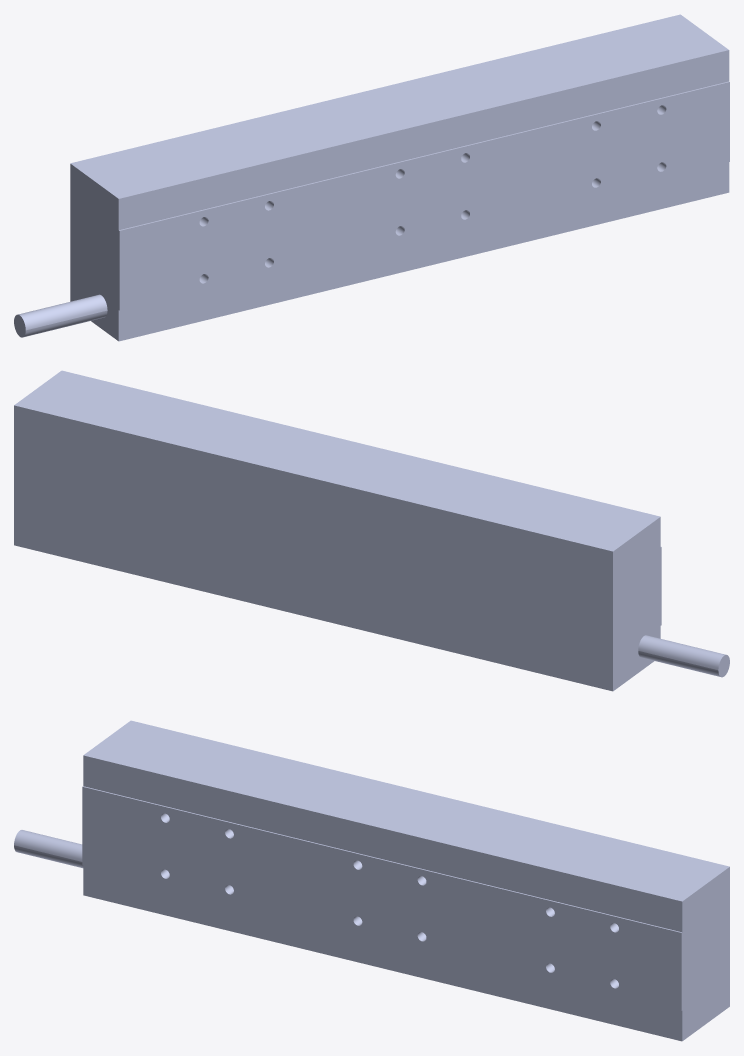
Rendered from MTA-12.glb.
3 renders of one model, top to bottom at view 1: azimuth 30°, elevation 25°; view 2: azimuth 150°, elevation 25°; view 3: azimuth 330°, elevation 25°, orthographic.
Parts seen in each view (by area): view 1: MTA-12_node_1; view 2: MTA-12_node_1; view 3: MTA-12_node_1.
Boxes of the visible parts, box(x1,y1,x2,y2) form: MTA-12_node_1: box(14, 14, 729, 341); MTA-12_node_1: box(14, 370, 729, 691); MTA-12_node_1: box(14, 720, 729, 1041).
Bounding box in the file's own units: 254 × 50 × 31.4.
